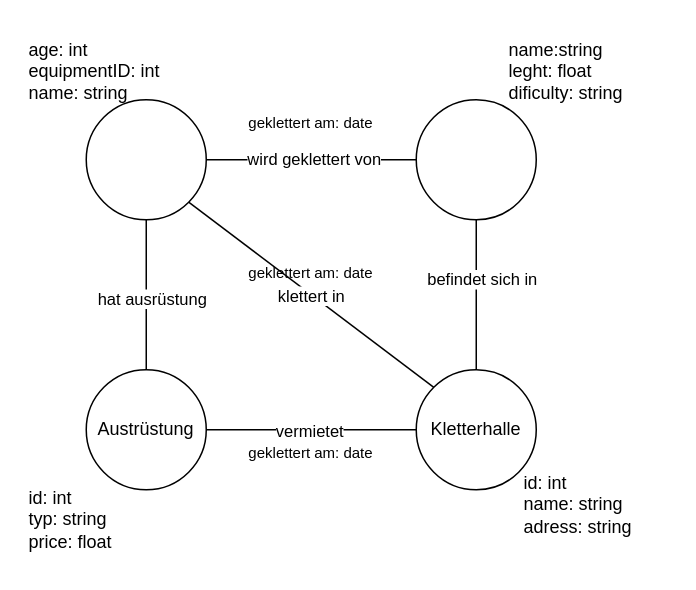
This 696x590 diagram has some shape labels left out. The centre of each missing label's shape, as x and y in pixels:
"Kletterer" belongs at pixel 145 159.
"Kletterroute" belongs at pixel 475 159.
